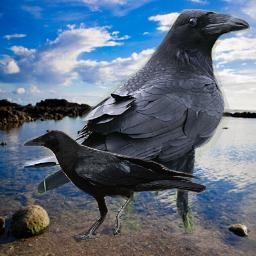Crow: (21, 9, 250, 232), (22, 128, 206, 239)
